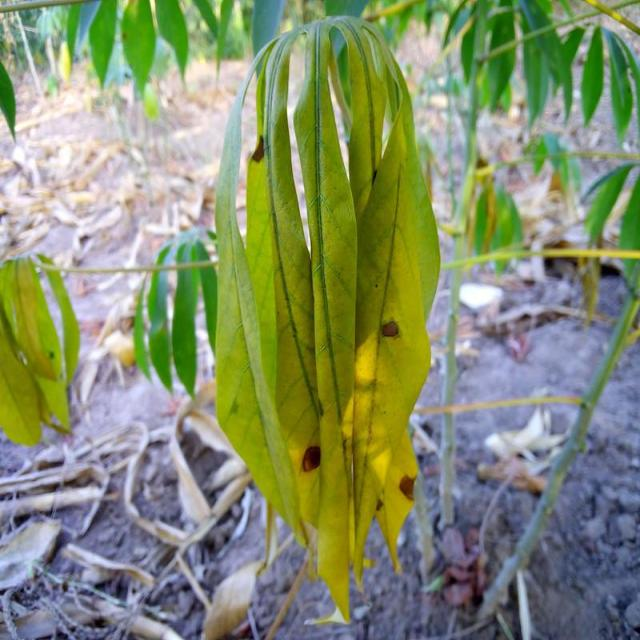cassava leaf: (213, 14, 442, 623)
